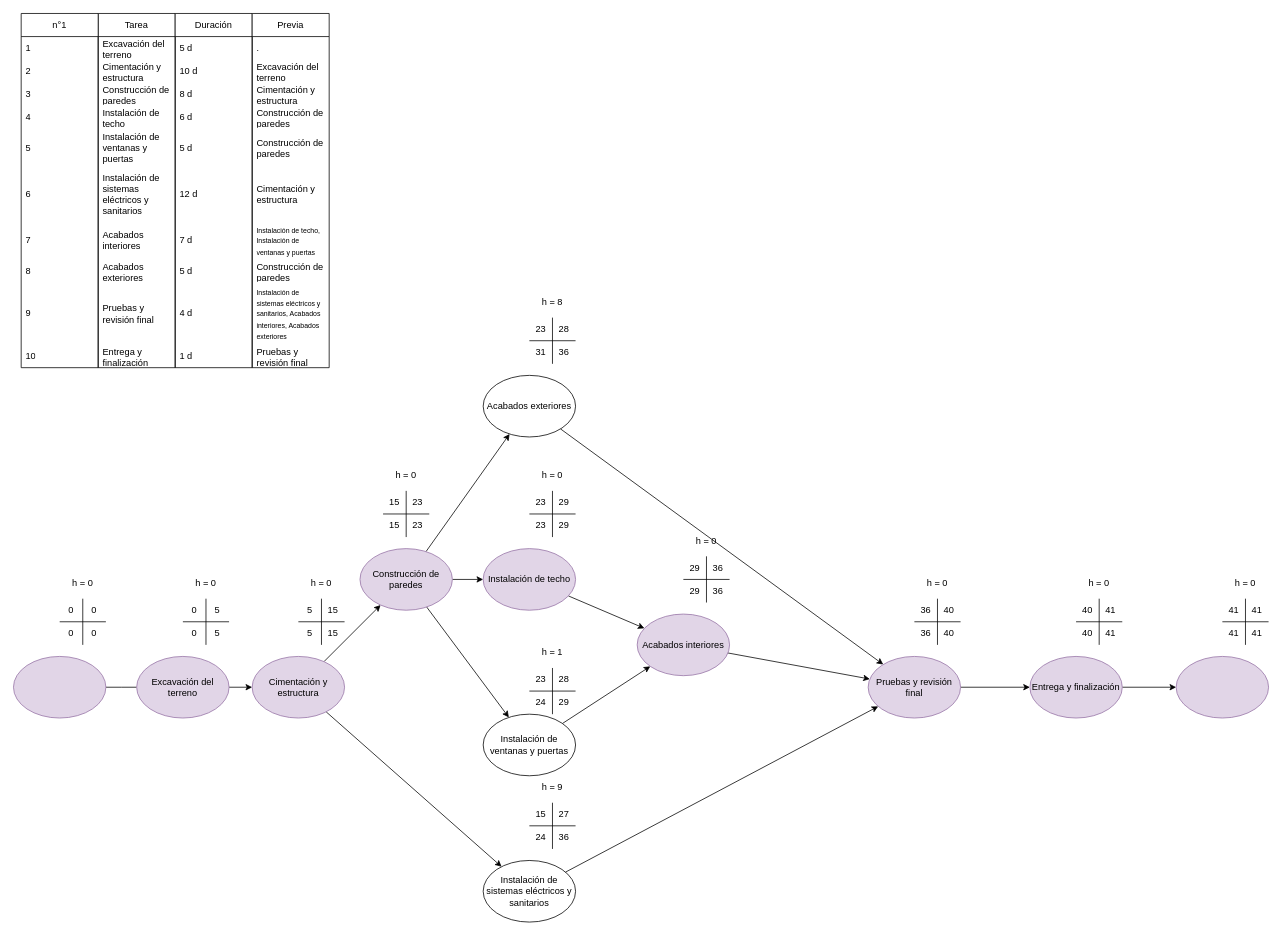
This 1283x936 diagram has some shape labels left out. Here are the shapes that lost their labels. From the top down, the centre of each, then its label:
At (59,687): "Inicio".
At (1222,687): "Fin".
